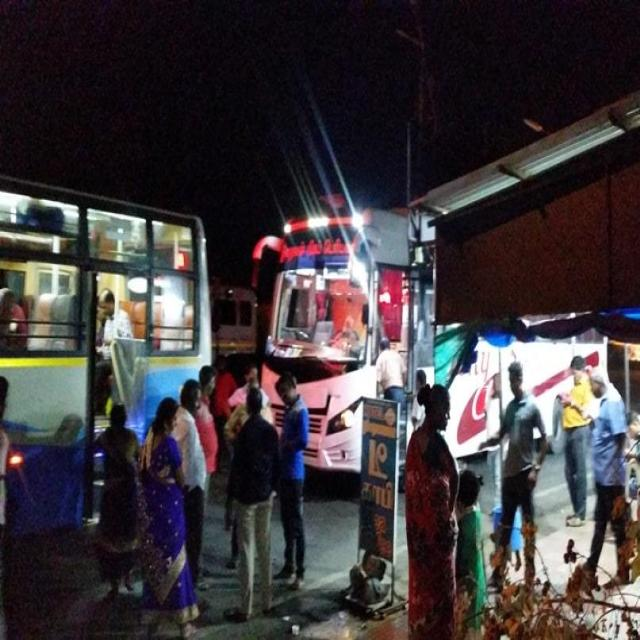bus: (0, 177, 211, 445), (252, 195, 409, 472)
